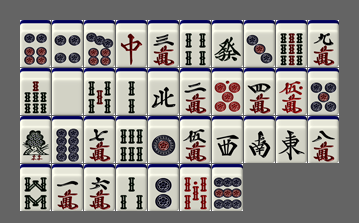0m: (276, 68, 307, 115)
0p: (212, 68, 243, 115)
0s: (180, 164, 211, 211)
1m: (52, 164, 83, 211)
1p: (148, 116, 179, 163)
1s: (20, 116, 51, 163)
1z: (276, 116, 307, 163)
2m: (180, 68, 211, 115)
2p: (148, 164, 179, 211)
2s: (116, 68, 147, 115)
2z: (244, 116, 275, 163)
3m: (148, 20, 179, 67)
3p: (244, 20, 275, 67)
3s: (116, 164, 147, 211)
3z: (212, 116, 243, 163)
4m: (244, 68, 275, 115)
4p: (52, 20, 83, 67)
4s: (180, 20, 211, 67)
4z: (148, 68, 179, 115)
5m: (180, 116, 211, 163)
5p: (308, 68, 339, 115)
5s: (84, 68, 115, 115)
5z: (52, 68, 83, 115)
6m: (84, 164, 115, 211)
6p: (20, 20, 51, 67)
6s: (116, 116, 147, 163)
6z: (212, 20, 243, 67)
7m: (84, 116, 115, 163)
7p: (84, 20, 115, 67)
7s: (20, 68, 51, 115)
7z: (116, 20, 147, 67)
8m: (308, 116, 339, 163)
8p: (52, 116, 83, 163)
8s: (20, 164, 51, 211)
9m: (308, 20, 339, 67)
9p: (212, 164, 243, 211)
9s: (276, 20, 307, 67)
